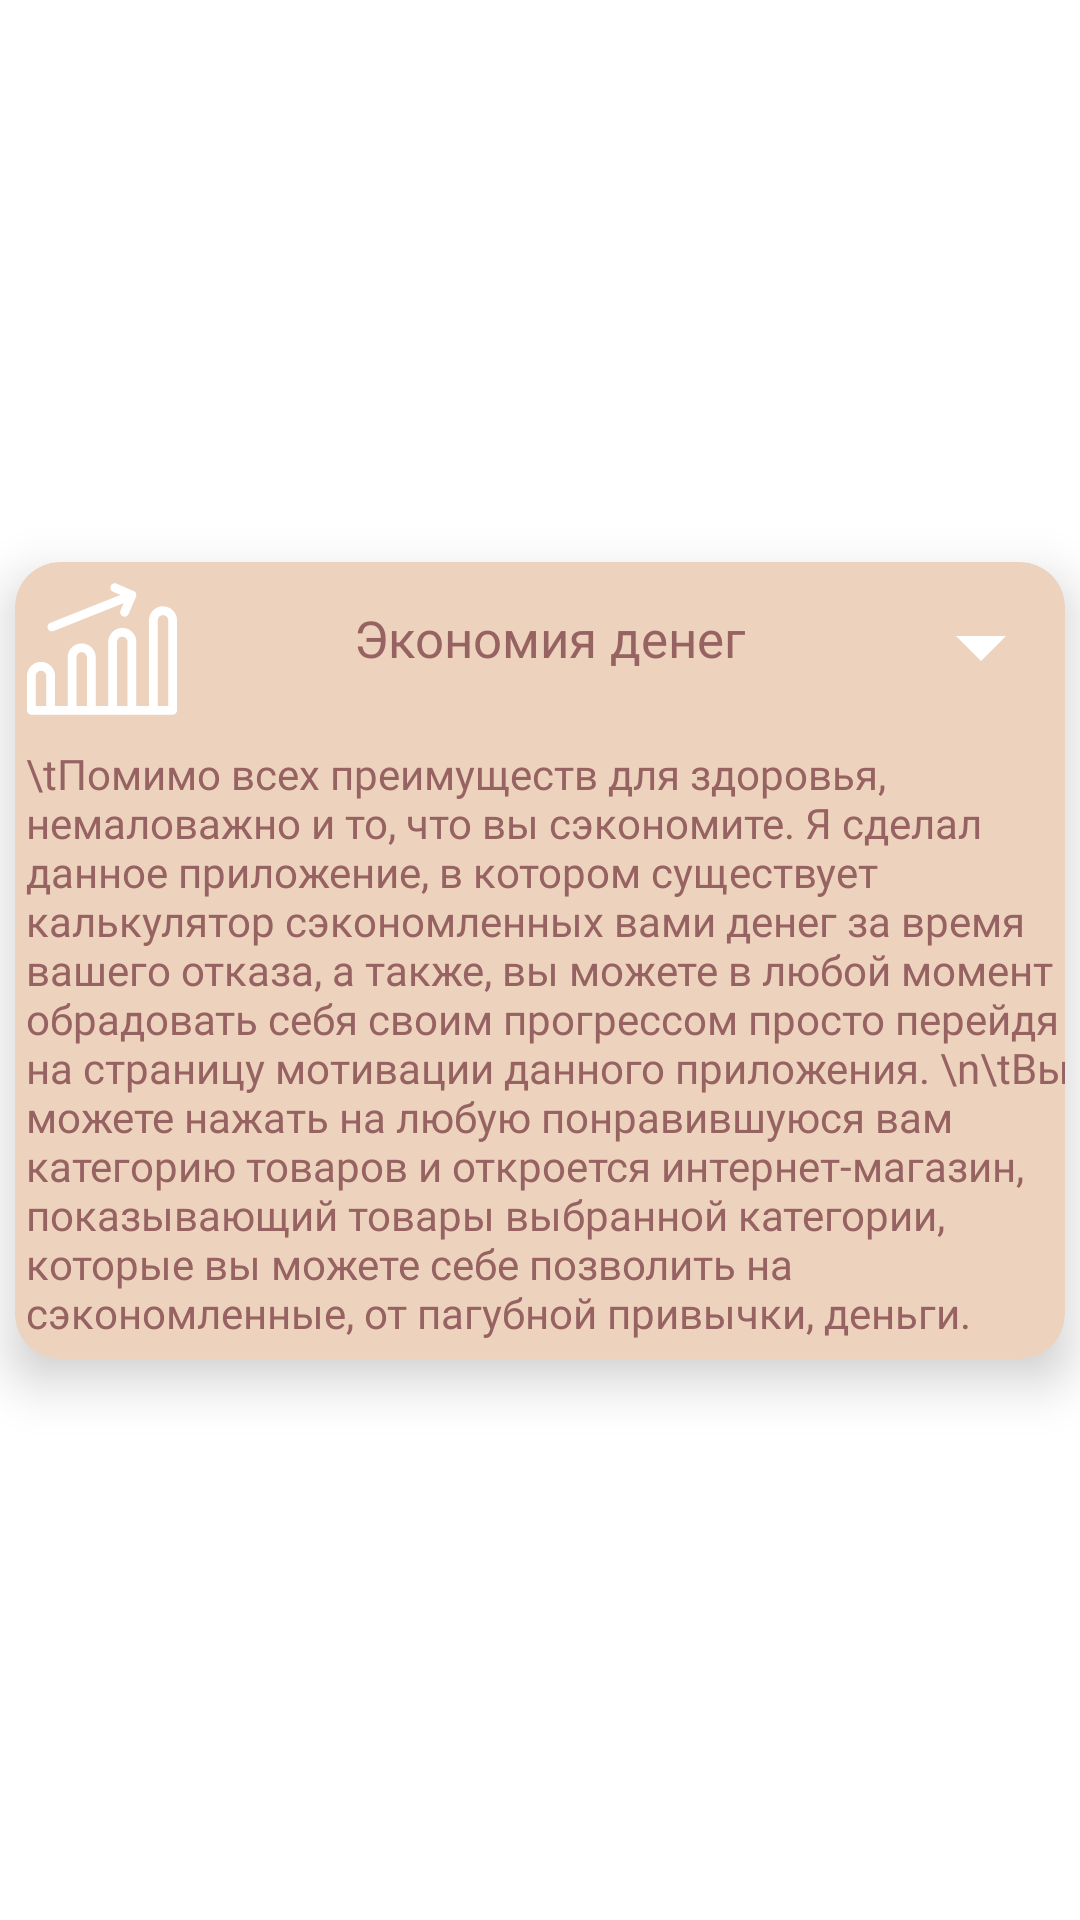

Icon click points for this 1080*1920 phone screenshot, format [x,y]:
arrow drop down: [981,648]
